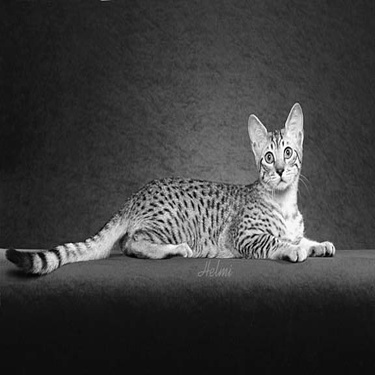cat: (1, 93, 334, 276)
